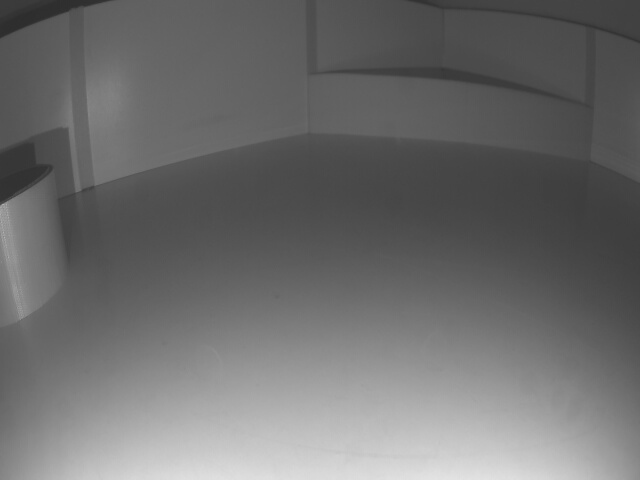Point: (308, 74, 592, 160)
